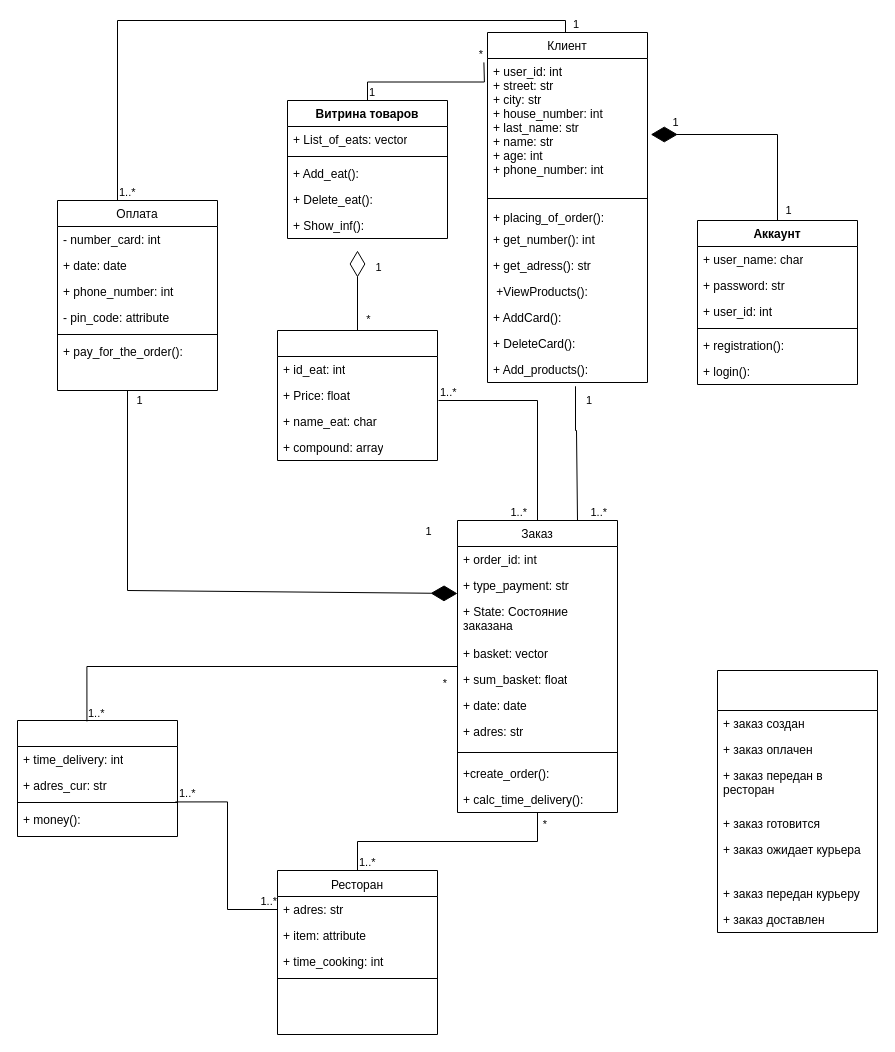
Image size: 895x1052. Some labels were removed from this diagram. The shapes that lost their labels are listed below. From the top down, each one's box as (x1, y1, x2, y2) in pixels, then its label:
(276, 330, 438, 460): Карточка товара
(16, 720, 178, 836): Курьер
(716, 670, 878, 932): Состояние заказа "enumeration"
